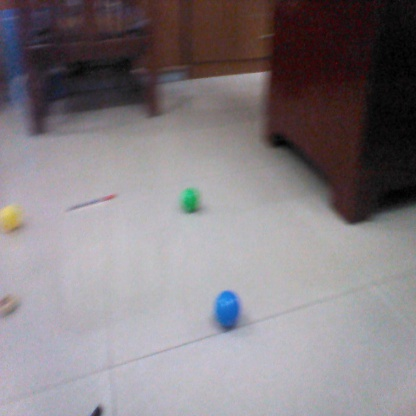ball: (211, 291, 242, 330), (1, 202, 23, 233), (180, 188, 201, 214)
chess: (1, 293, 19, 315)
pen: (70, 195, 117, 211)
